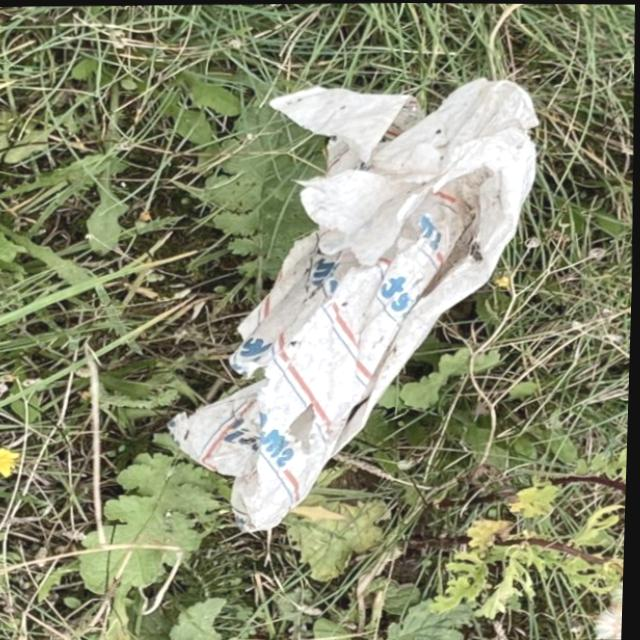Paper: (155, 72, 551, 537)
